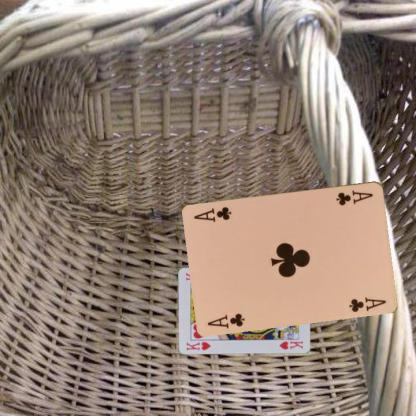Ac: (205, 310, 246, 330), (334, 187, 374, 206)
Kh: (184, 339, 212, 351)
